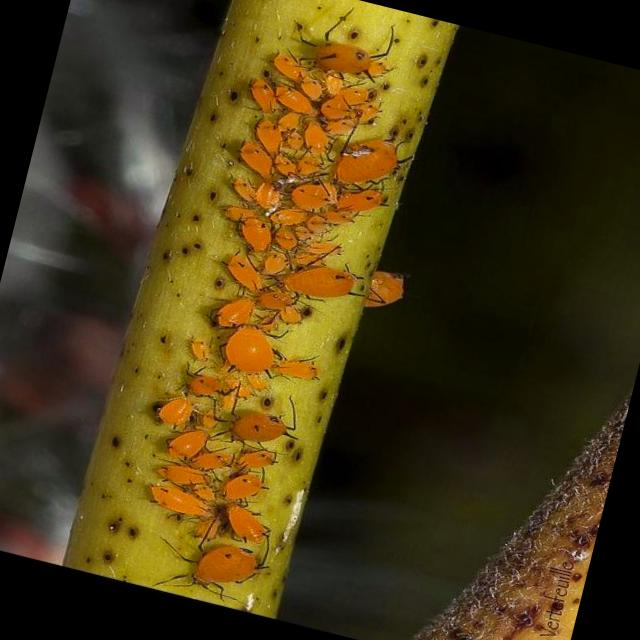aphid: (160, 520, 322, 622), (289, 2, 402, 88), (210, 310, 290, 388), (272, 252, 366, 314), (331, 128, 402, 196), (228, 404, 292, 452), (144, 480, 216, 522), (218, 500, 274, 547), (219, 248, 270, 294), (152, 458, 215, 495), (286, 174, 337, 217), (234, 138, 282, 182), (219, 466, 268, 508), (163, 421, 210, 464), (212, 291, 256, 334), (233, 213, 276, 256), (232, 442, 280, 479), (154, 390, 196, 430), (270, 84, 318, 118)
